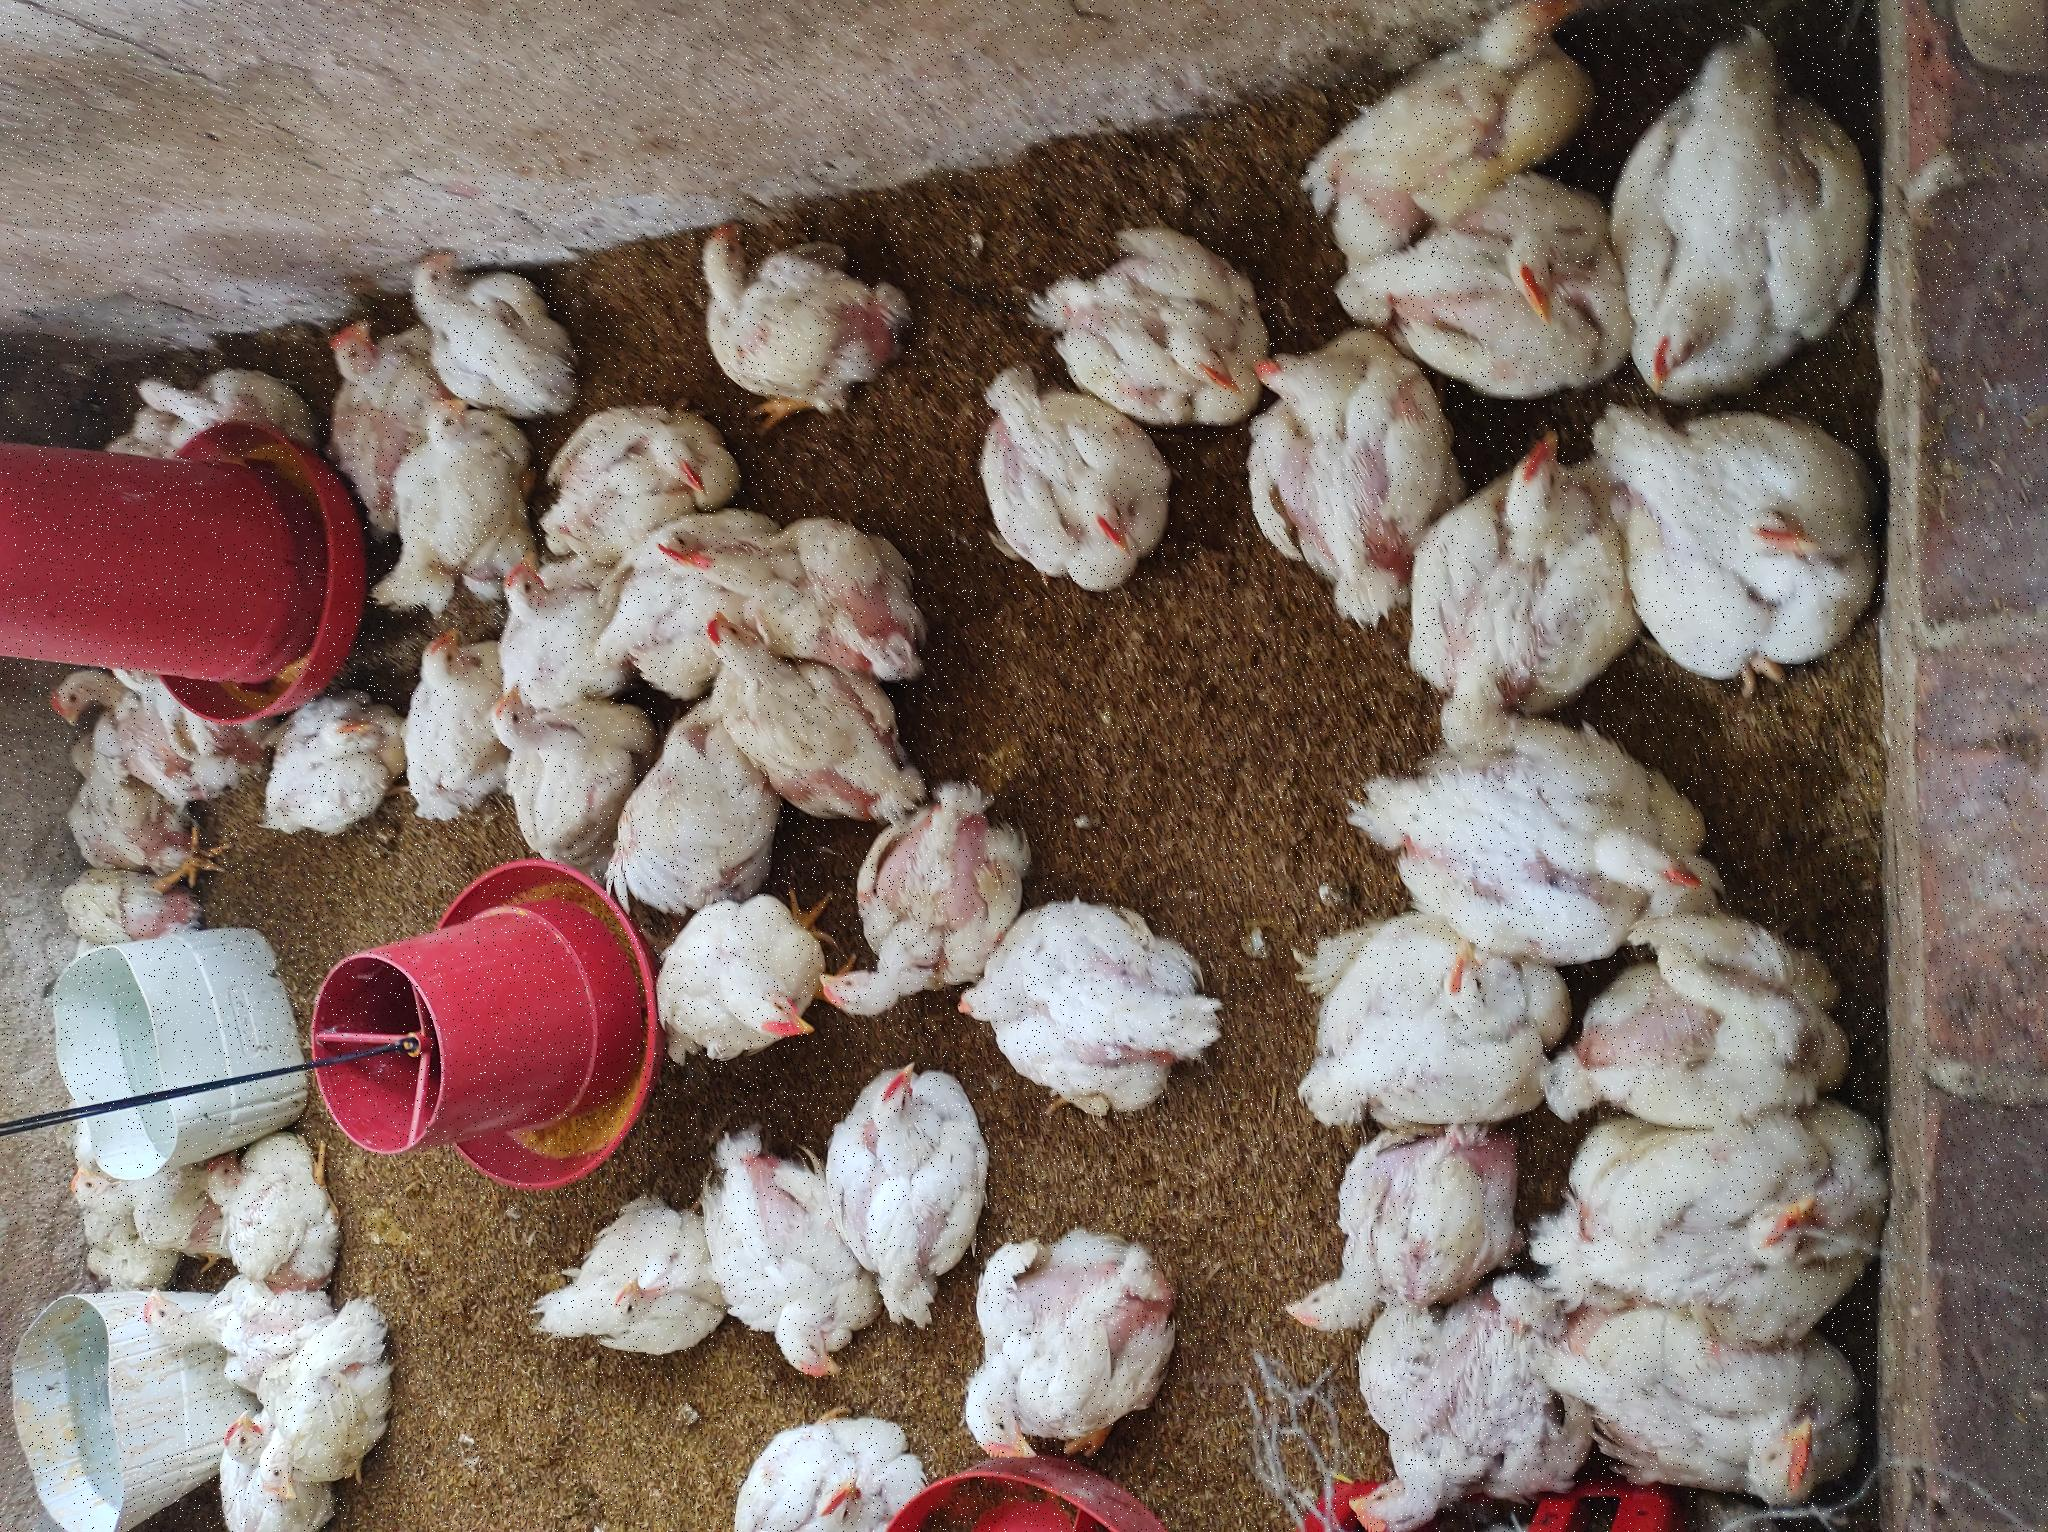Pollos: (60, 953, 290, 1189), (413, 966, 623, 1218), (206, 1278, 422, 1522), (925, 1255, 1194, 1437), (8, 1321, 232, 1532), (507, 830, 730, 1040), (1113, 1060, 1322, 1266), (1121, 689, 1316, 908), (426, 1294, 600, 1532), (936, 980, 1142, 1175), (1364, 1300, 1533, 1532), (714, 713, 917, 904), (212, 827, 484, 962), (150, 708, 380, 859), (1145, 1369, 1351, 1532), (449, 653, 634, 830), (26, 261, 249, 402), (626, 620, 837, 763), (159, 534, 330, 710), (6, 702, 134, 929), (824, 1426, 1083, 1532), (616, 1384, 788, 1532), (877, 752, 1030, 917), (664, 496, 833, 637), (936, 402, 1136, 520), (1147, 422, 1290, 583), (866, 591, 1018, 740), (652, 47, 782, 216), (256, 200, 405, 344), (693, 256, 848, 394), (709, 393, 903, 489), (1017, 549, 1125, 719), (840, 499, 981, 616), (1096, 127, 1174, 306), (1047, 330, 1215, 409), (174, 137, 261, 270), (804, 39, 882, 126), (319, 64, 380, 142), (51, 208, 117, 266)
